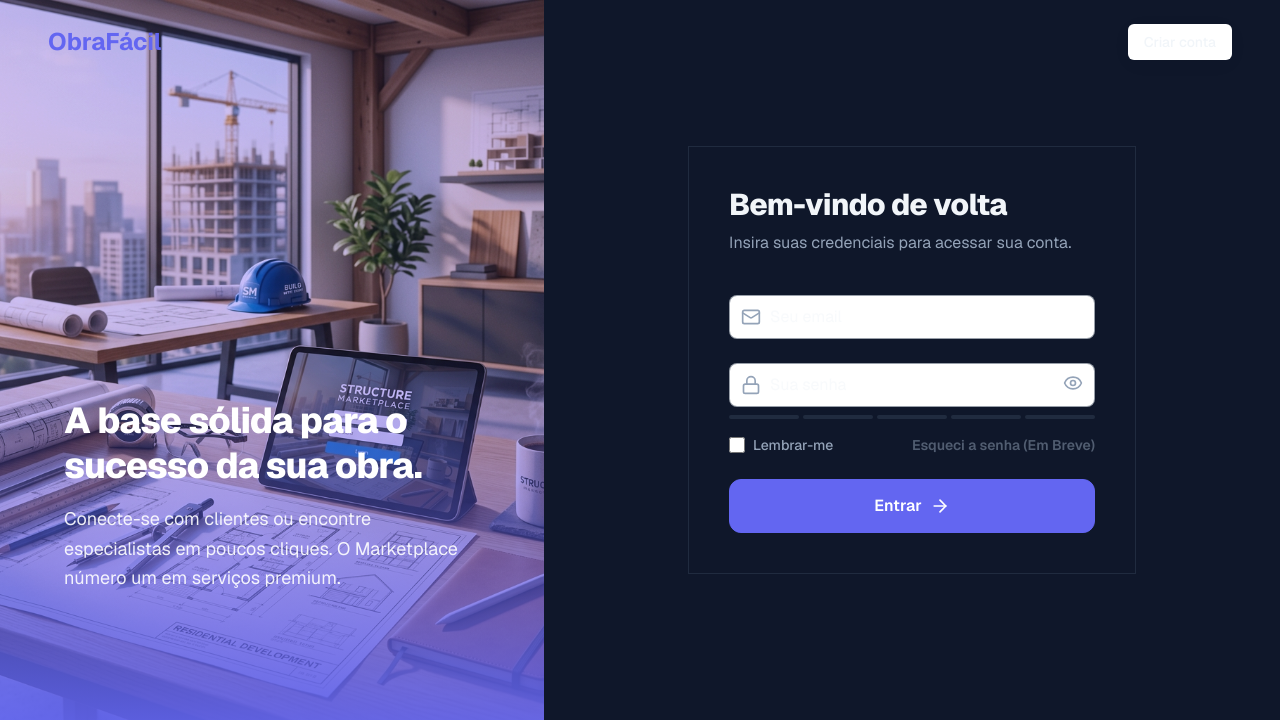
Test: Integration: LoginPage › deve exibir mensagens de erro do Zod ao submeter campos vazios
This screenshot has width=1280, height=720.
Click the button "Entrar" at coordinates (912, 506), box [729, 479, 1095, 533]
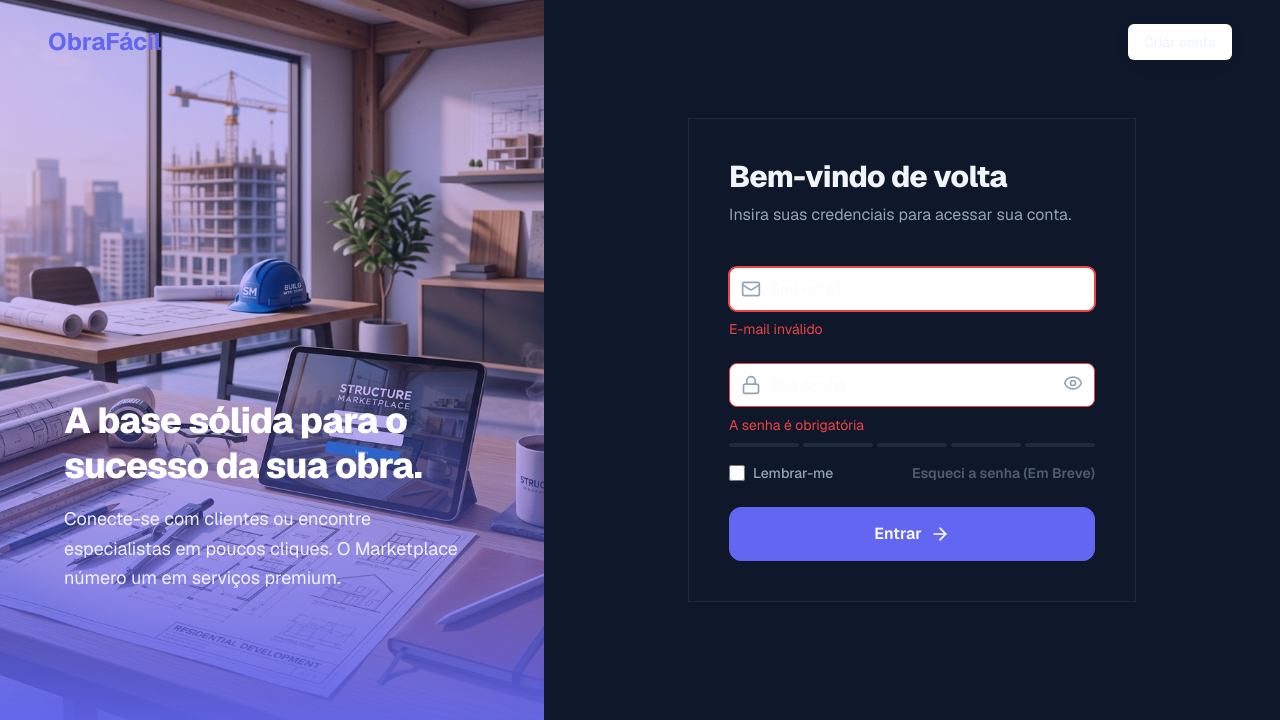
Expected: the text "E-mail inválido" is shown, [729, 320, 823, 338]
Expected: the text "A senha é obrigatória" is shown, [729, 416, 864, 434]
